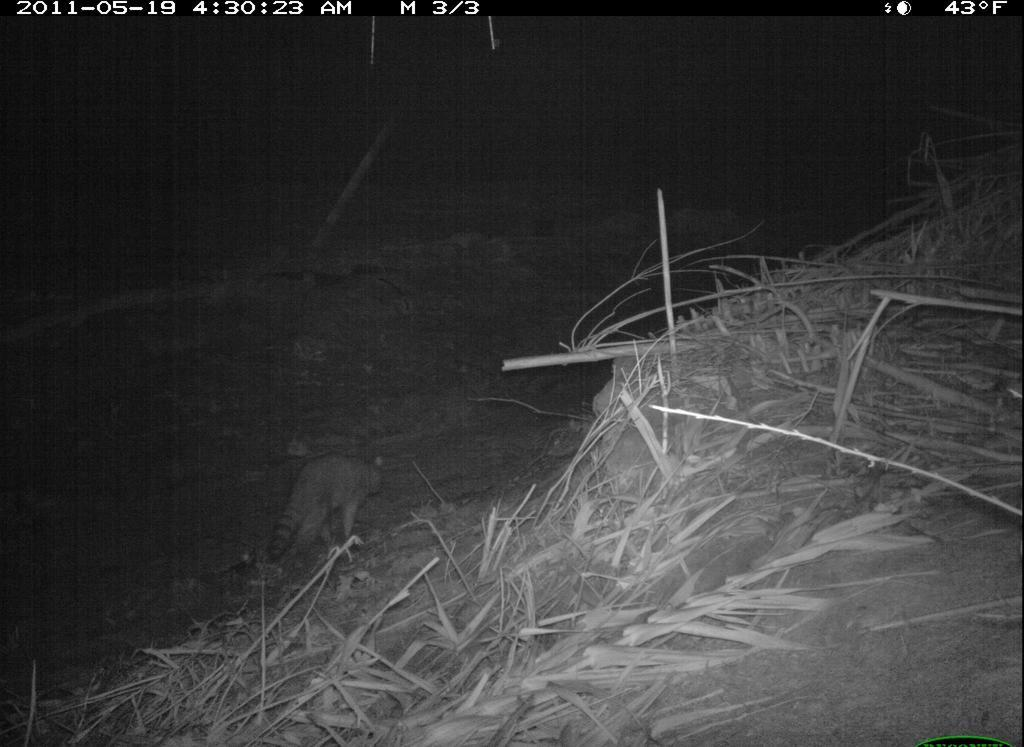rabbit: (262, 441, 395, 577)
